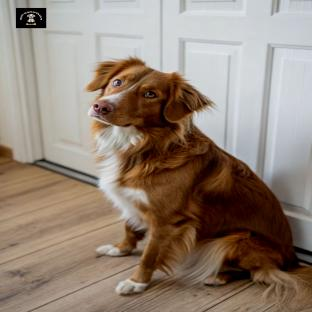Animal: (86, 57, 312, 308)
